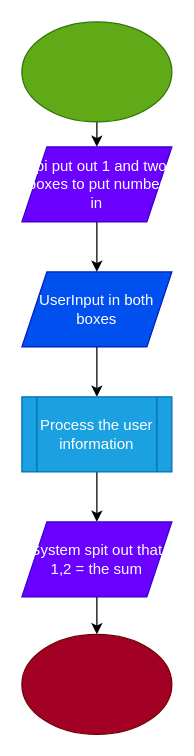
This 194x756 diagram has some shape labels left out. Here are the shapes that lost their labels. From the top down, the centre of each, then its label:
At point (96, 71): "Start".
At point (96, 683): "End".
